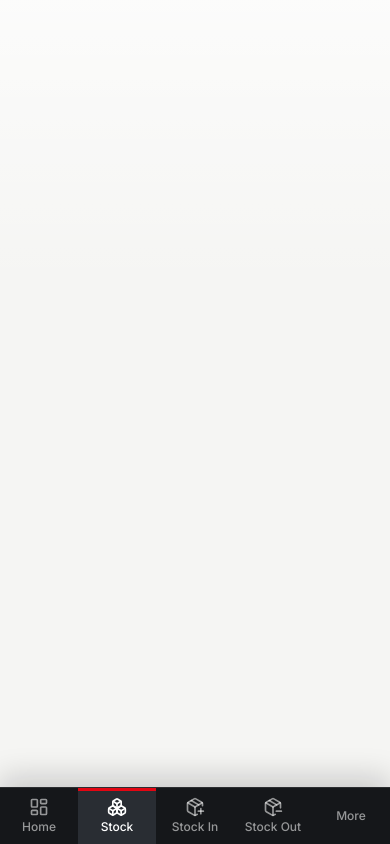
Test: shell navigation › shows Purchasing in More for an authorized Manager, never the bottom bar
Click the button "More". click: (351, 816)
box: 312,788 -> 389,843
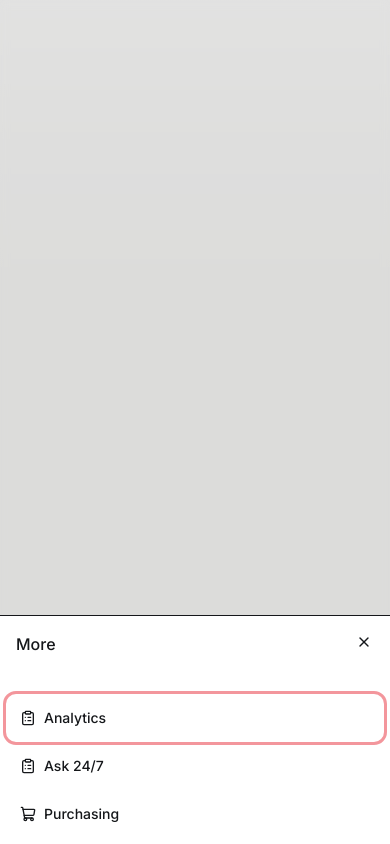
expect the link "Purchasing" is shown: met, box 20,805 -> 119,822
